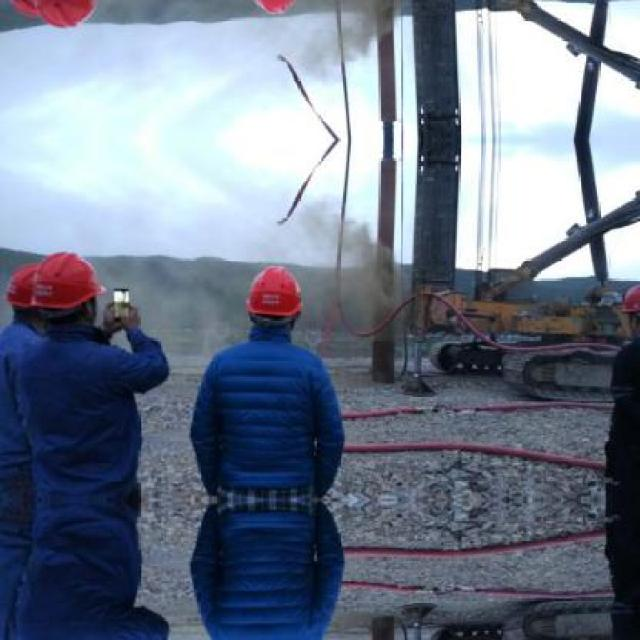helmet: (36, 247, 112, 335), (236, 261, 306, 345), (8, 256, 50, 326), (36, 0, 112, 31), (235, 0, 308, 17), (8, 0, 50, 23)
